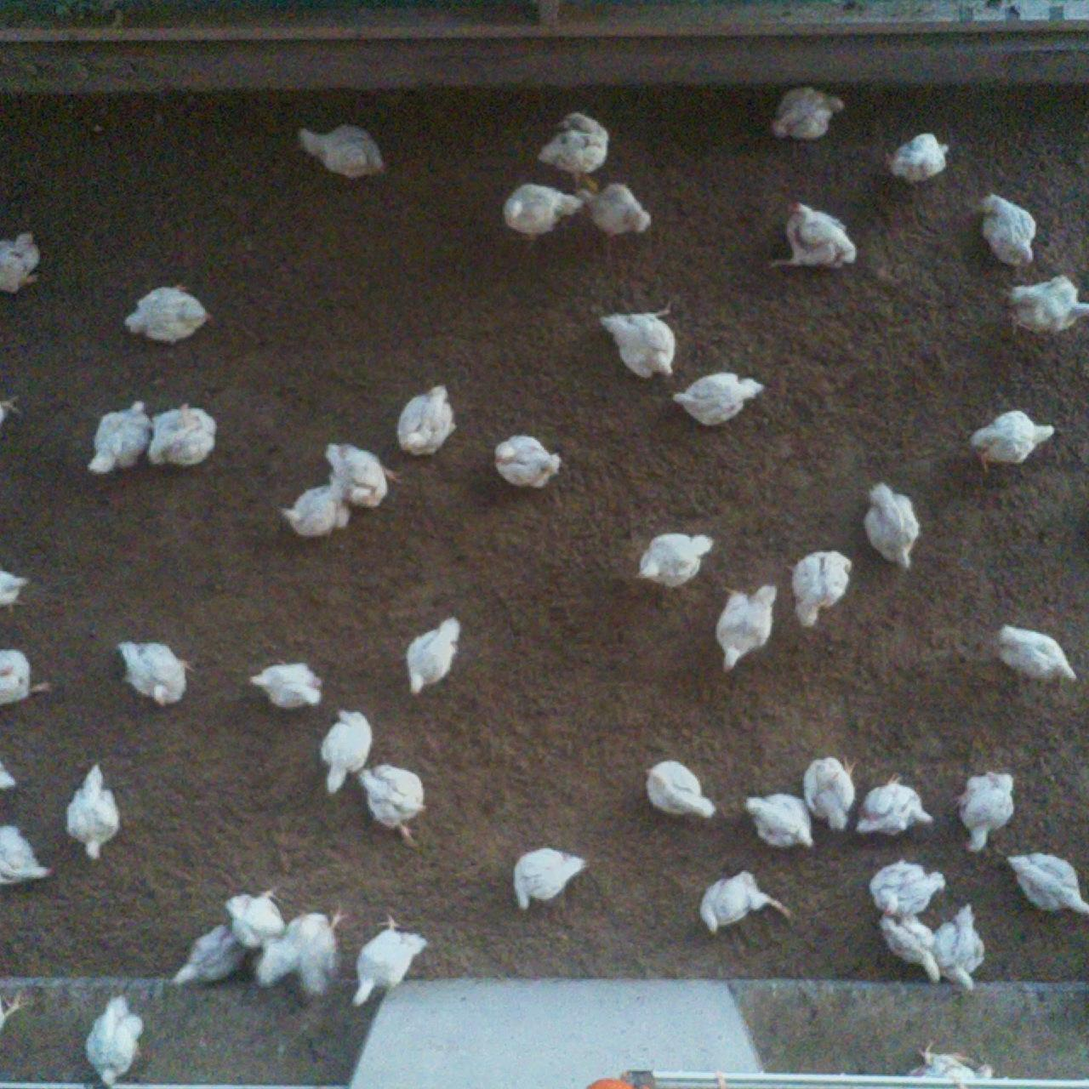chicken: (699, 867, 798, 937), (265, 905, 339, 997), (770, 199, 859, 272), (349, 922, 429, 1002), (597, 311, 678, 379), (966, 412, 1057, 472), (88, 398, 157, 476), (83, 996, 144, 1084), (356, 766, 426, 842), (1007, 852, 1089, 916), (714, 584, 776, 667), (1009, 272, 1088, 337), (123, 285, 207, 345), (1000, 623, 1078, 687), (903, 1040, 1002, 1089), (118, 637, 187, 707), (300, 123, 386, 179), (956, 769, 1014, 852), (861, 482, 917, 567), (791, 551, 852, 628), (323, 440, 394, 505), (541, 114, 610, 180), (513, 846, 584, 908), (678, 372, 760, 425), (72, 772, 122, 858), (870, 863, 944, 921), (881, 914, 944, 982), (645, 761, 716, 821), (938, 905, 987, 991), (856, 779, 934, 833), (499, 185, 575, 240), (637, 533, 715, 586), (981, 194, 1036, 267), (399, 387, 454, 457), (0, 823, 60, 887), (244, 661, 322, 710), (408, 619, 459, 693), (772, 88, 843, 141), (320, 710, 369, 786), (744, 794, 814, 847), (150, 412, 218, 466), (0, 647, 59, 707), (280, 487, 349, 538), (583, 183, 648, 237), (806, 760, 854, 833), (494, 435, 561, 487), (887, 131, 949, 180), (177, 932, 235, 984), (234, 893, 279, 955), (1, 231, 39, 291), (0, 562, 37, 604)
